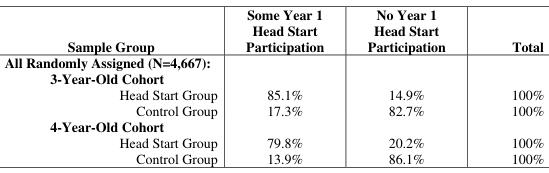table: (3, 4, 543, 166)
table column: (3, 4, 230, 166), (344, 4, 477, 166), (230, 4, 344, 166), (477, 4, 543, 166)
table column header: (3, 4, 543, 54)
table projected row header: (3, 117, 543, 134), (3, 54, 543, 70), (3, 70, 543, 86)
table row: (3, 4, 543, 54), (3, 117, 543, 134), (3, 149, 543, 166), (3, 54, 543, 70), (3, 70, 543, 86), (3, 101, 543, 117), (3, 86, 543, 101), (3, 134, 543, 149)
